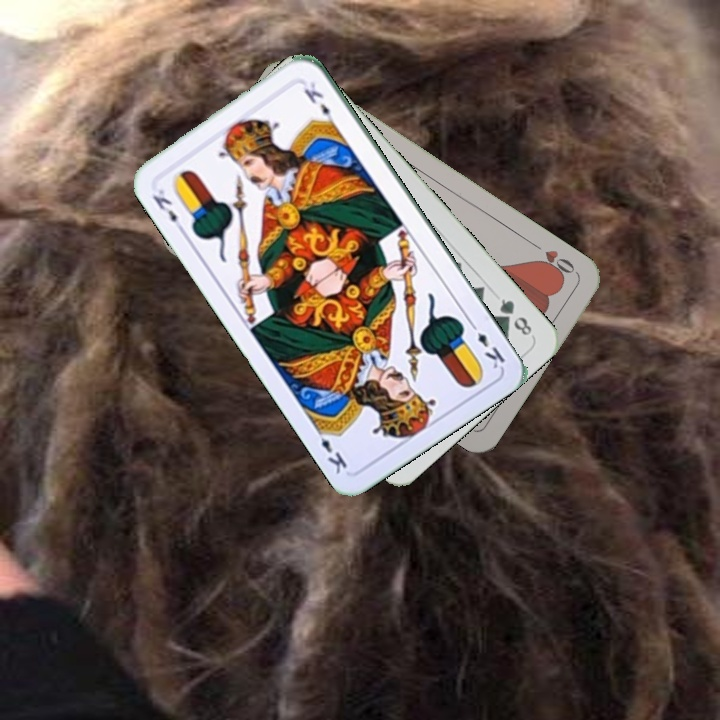EK: (465, 317, 508, 372), (148, 185, 187, 234)
G8: (495, 294, 535, 339)
HO: (527, 238, 579, 281)
